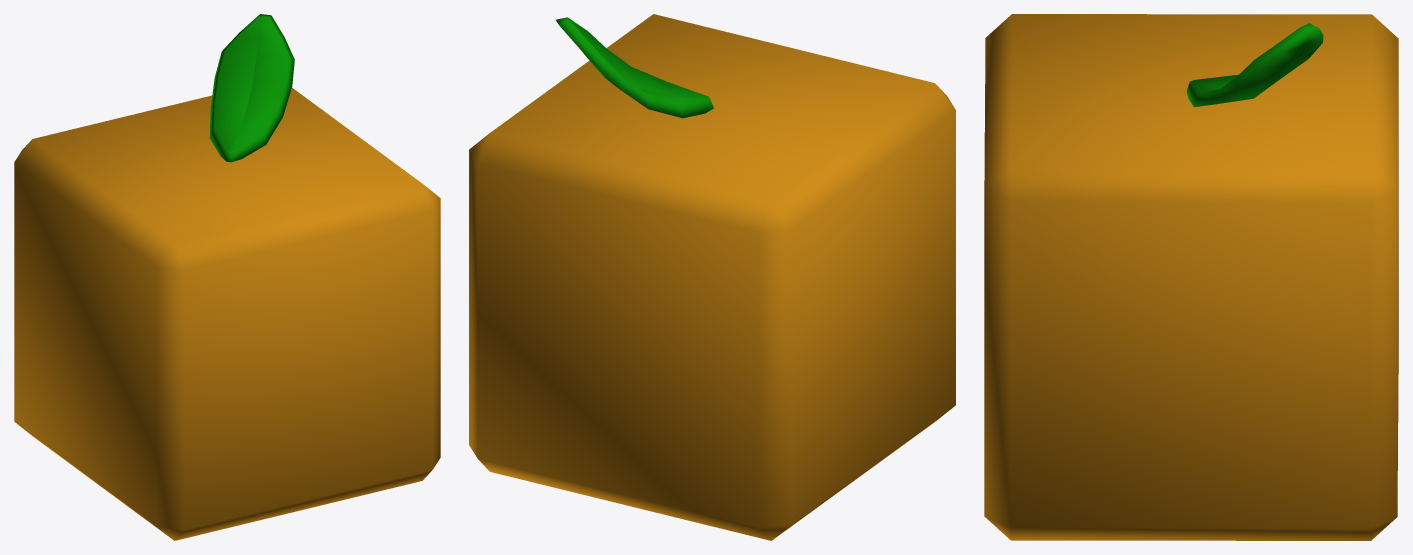
The model's file is pampkin_1.fbx.
3 views of the same model, side by side, from view 1: azimuth 30°, elevation 25°; view 2: azimuth 150°, elevation 25°; view 3: azimuth 270°, elevation 25° (orthographic). The views are drawn at different scales.
Parts seen in each view (by area): view 1: 立方体.001; view 2: 立方体.001; view 3: 立方体.001.
Boxes of the visible parts, x1,y1,x2,y2 form: 立方体.001: [14, 14, 440, 540]; 立方体.001: [469, 14, 955, 540]; 立方体.001: [984, 14, 1398, 540].
Bounding box in the file's own units: 13.83 × 18.02 × 13.83.
